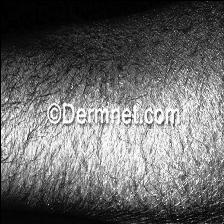Non-Cancerous Skin Condition: (0, 124, 224, 216), (46, 17, 224, 102)
